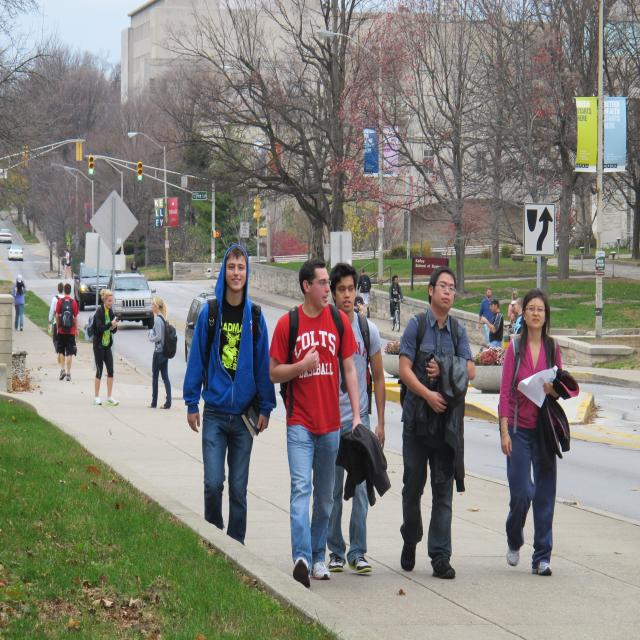body: (267, 257, 369, 588), (182, 243, 278, 547), (396, 264, 476, 581), (318, 260, 388, 576), (496, 286, 565, 577), (83, 288, 119, 407), (146, 295, 178, 410), (54, 283, 80, 382), (48, 282, 65, 364), (480, 298, 504, 351), (477, 286, 495, 346), (12, 274, 27, 332), (388, 273, 404, 327), (356, 266, 372, 319), (508, 297, 524, 340), (364, 130, 379, 171), (506, 306, 518, 341), (61, 247, 73, 280), (508, 290, 519, 324), (352, 295, 366, 316), (131, 279, 145, 289), (130, 259, 138, 273)
